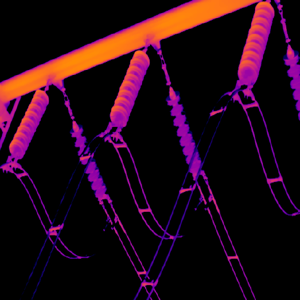insulator: (105, 47, 150, 124), (67, 118, 108, 200), (165, 83, 202, 173), (5, 86, 50, 157), (236, 0, 274, 83), (284, 41, 300, 122)
